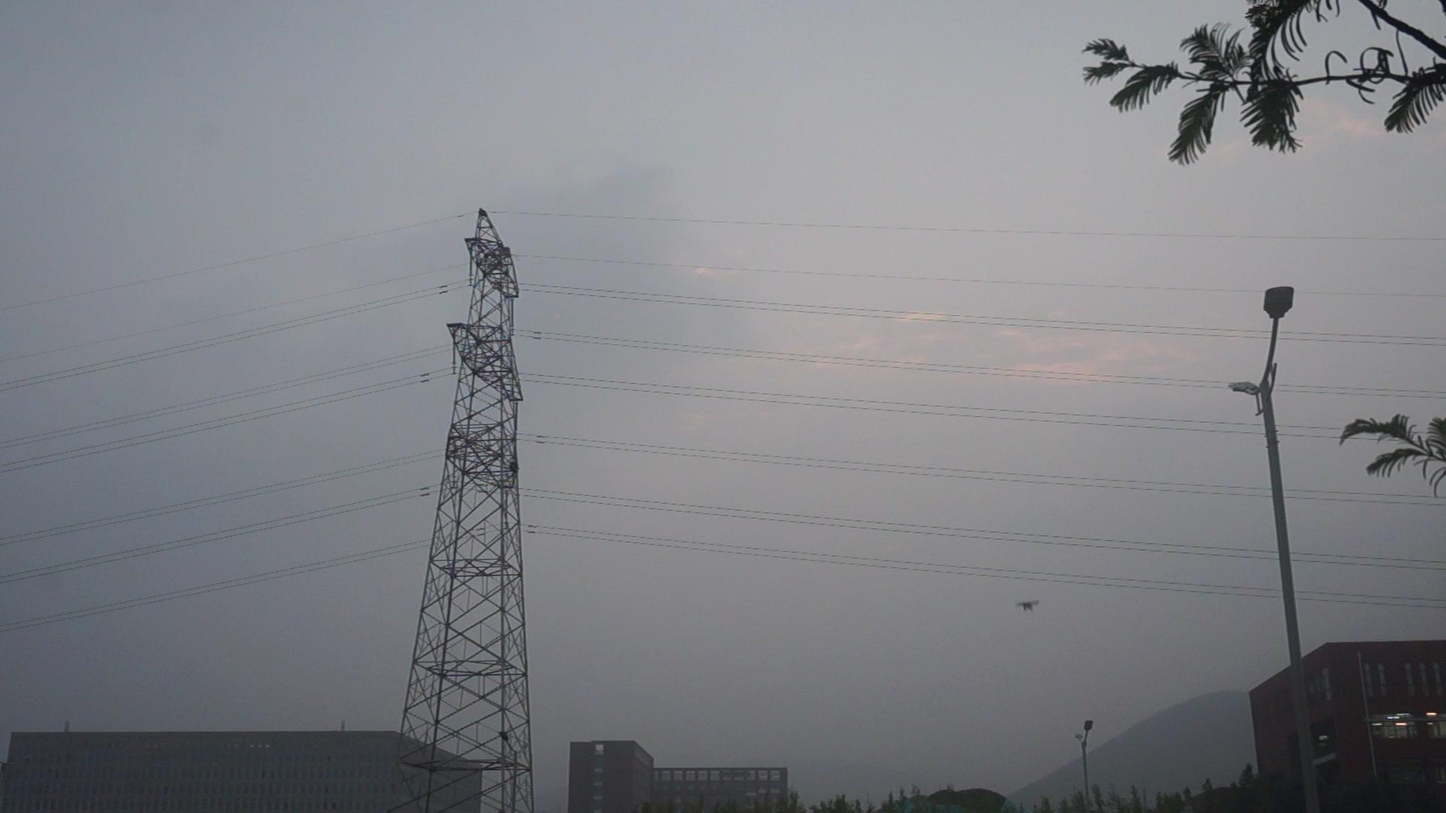UAV: (1017, 600, 1041, 613)
